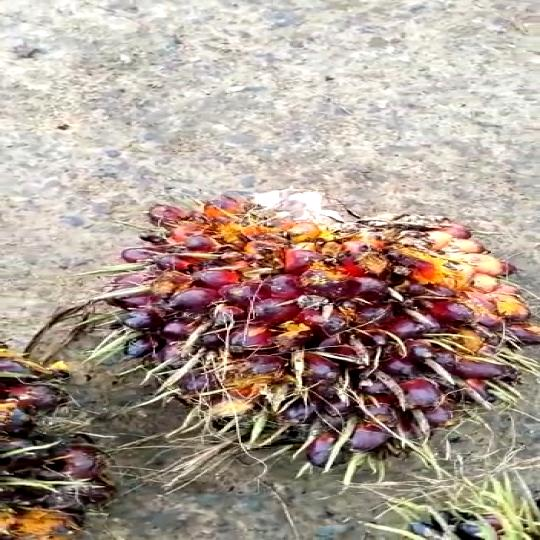masak: (111, 169, 540, 471)
